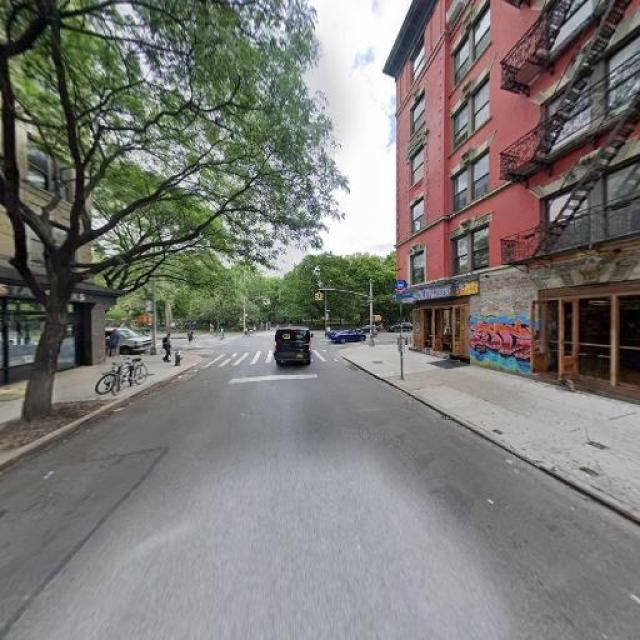Building: (398, 1, 640, 407), (1, 1, 90, 388)
